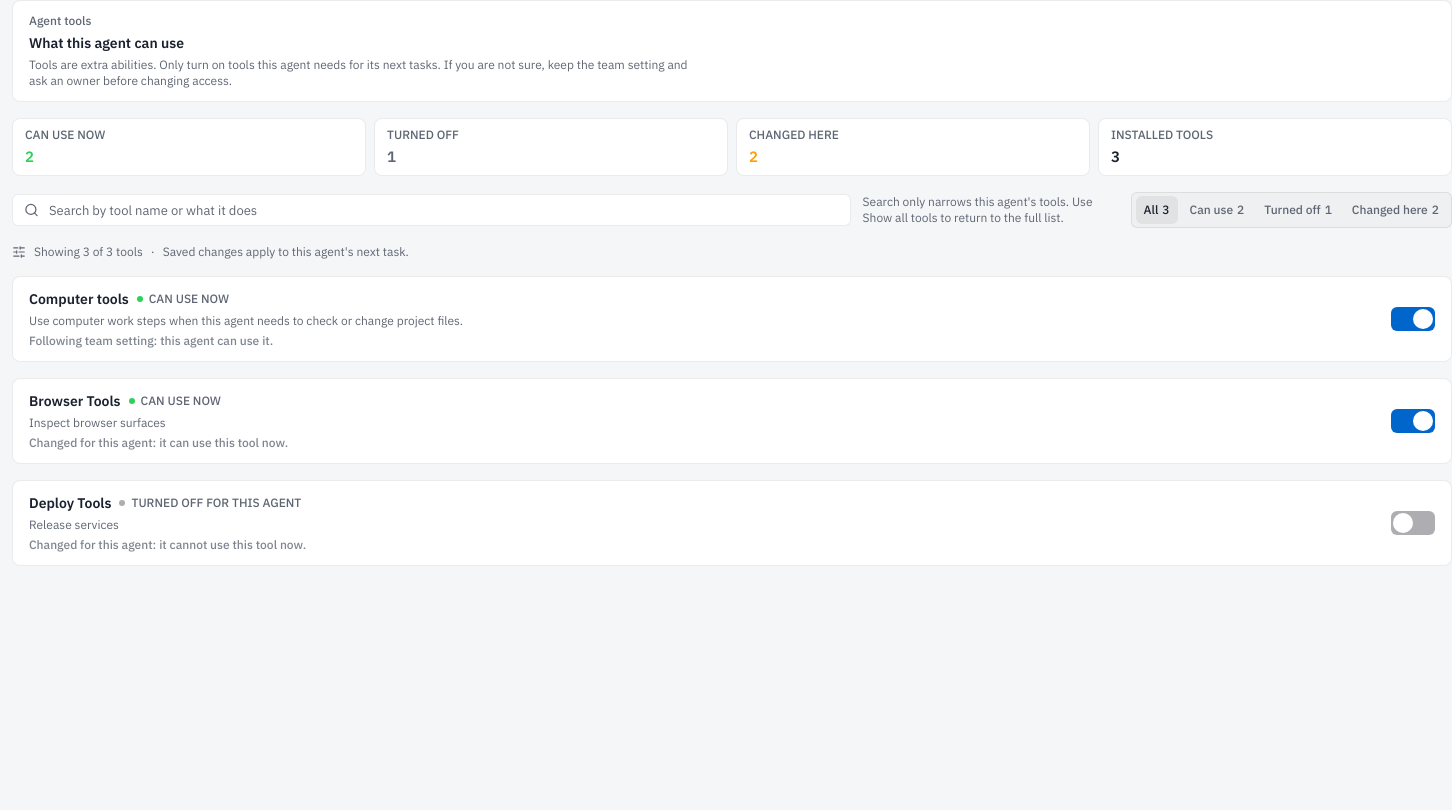
Scenario: AgentPluginsTab › filters and searches agent plugins
Expected: the text "Computer tools" is shown, [29, 289, 129, 309]
Click the button with aria-label "show tools turned off for this agent, 1 matching tool" at (1298, 210), box [1256, 196, 1340, 224]
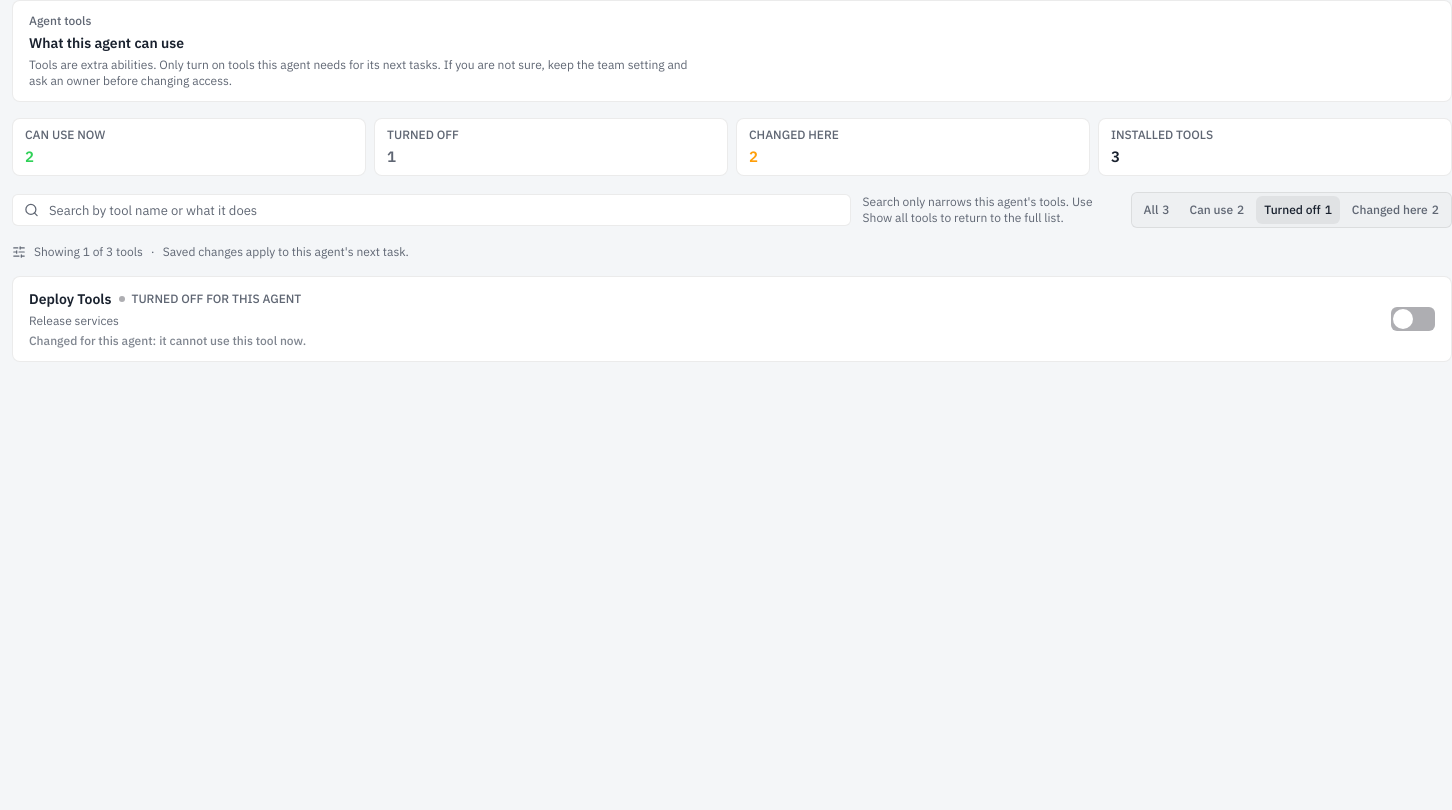
Expected: the text "Deploy Tools" is shown, [29, 289, 112, 309]
Now the text "Computer tools" is gone
Now the text "Browser Tools" is gone
Type "browser" into the field with test id "agent-plugin-search" at (431, 210), box [12, 194, 851, 226]
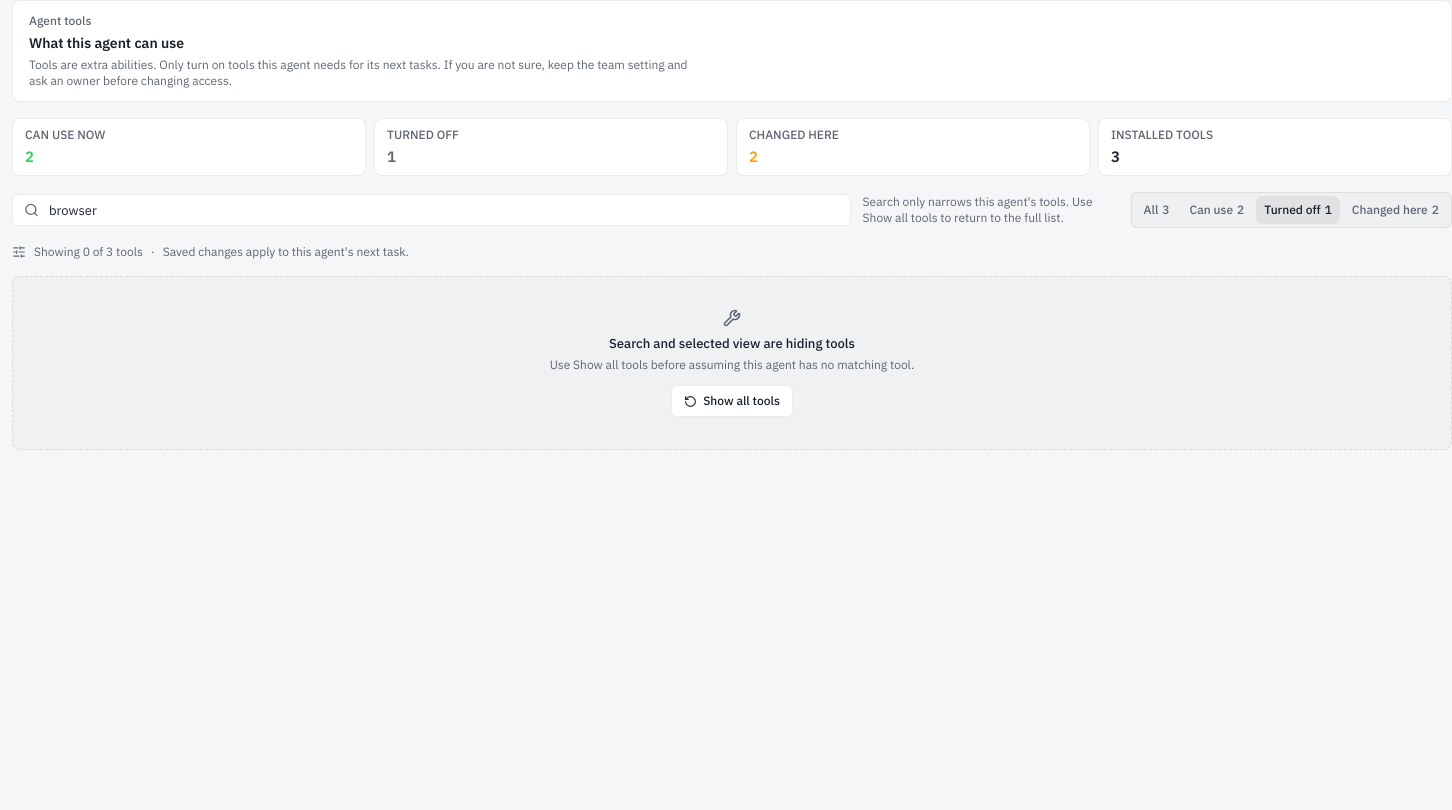
Now the text "Search and selected view are hiding tools" is shown, box [609, 335, 855, 353]
Now the message with test id "agent-plugin-filter-empty" shows "Use Show all tools before assuming this agent has no matching tool.", box [550, 357, 914, 372]
Click the button "Show all tools" at (732, 401), box [671, 385, 793, 417]
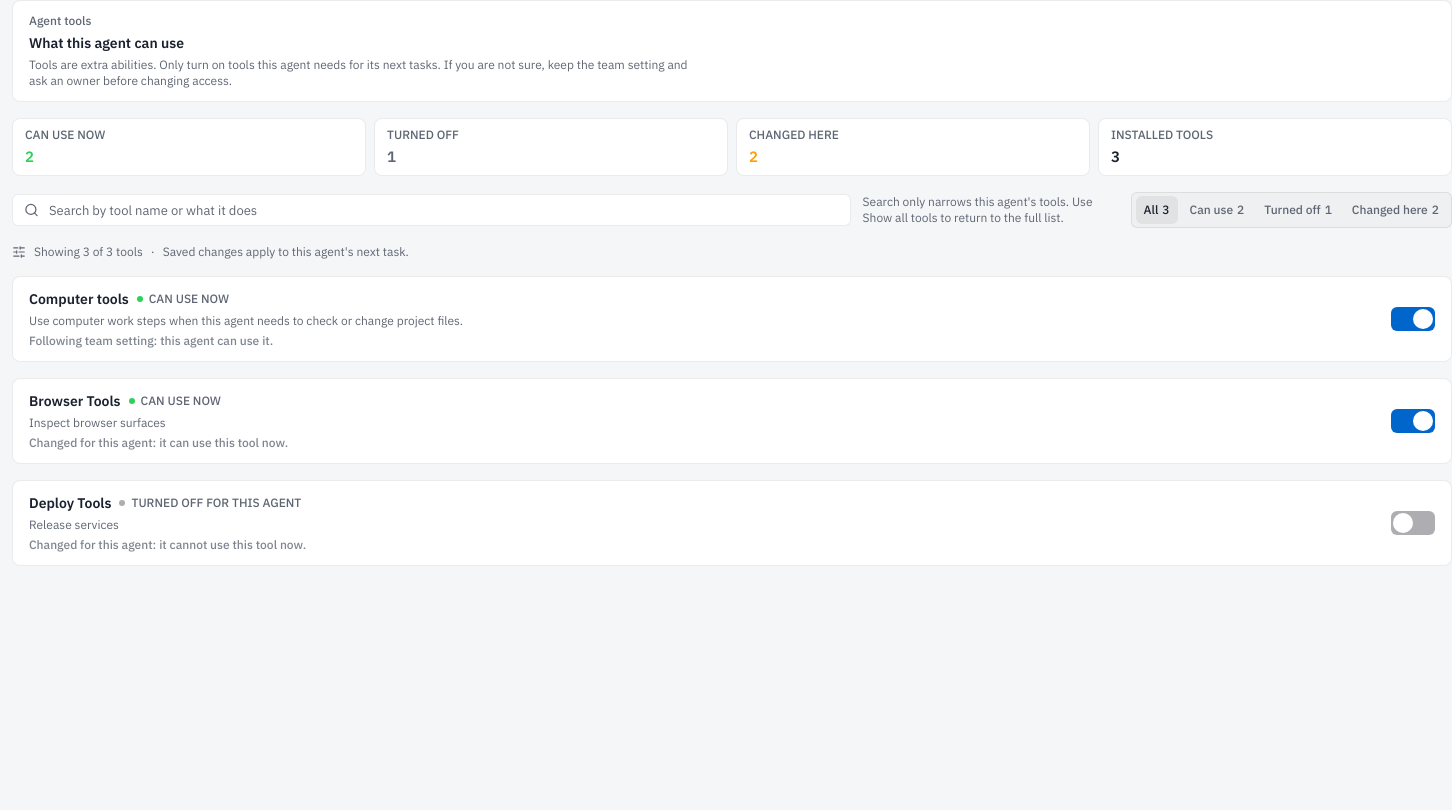
Now the text "Computer tools" is shown, box [29, 289, 129, 309]
Now the text "Browser Tools" is shown, box [29, 391, 121, 411]
Now the text "Deploy Tools" is shown, box [29, 493, 112, 513]
